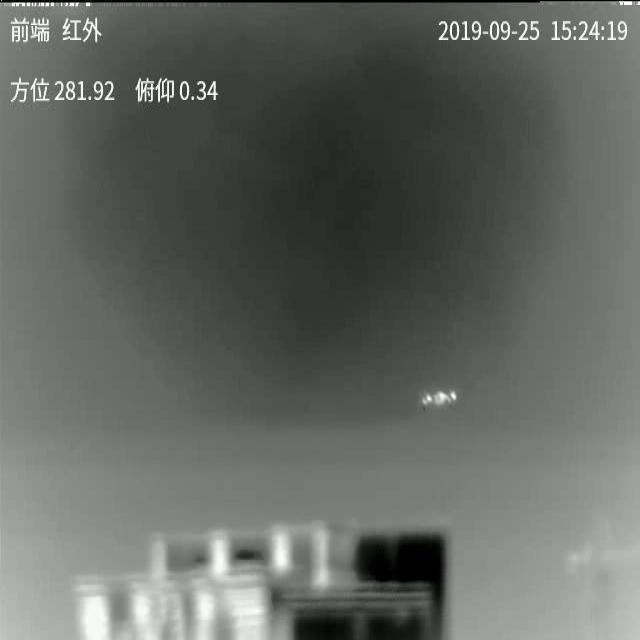drone: (422, 390, 457, 406)
